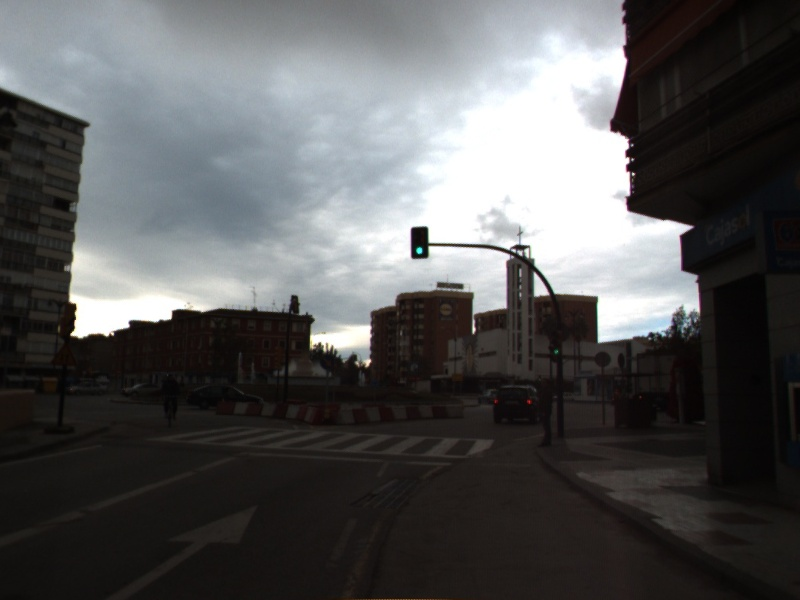STRAIGHT: (108, 502, 261, 600)
